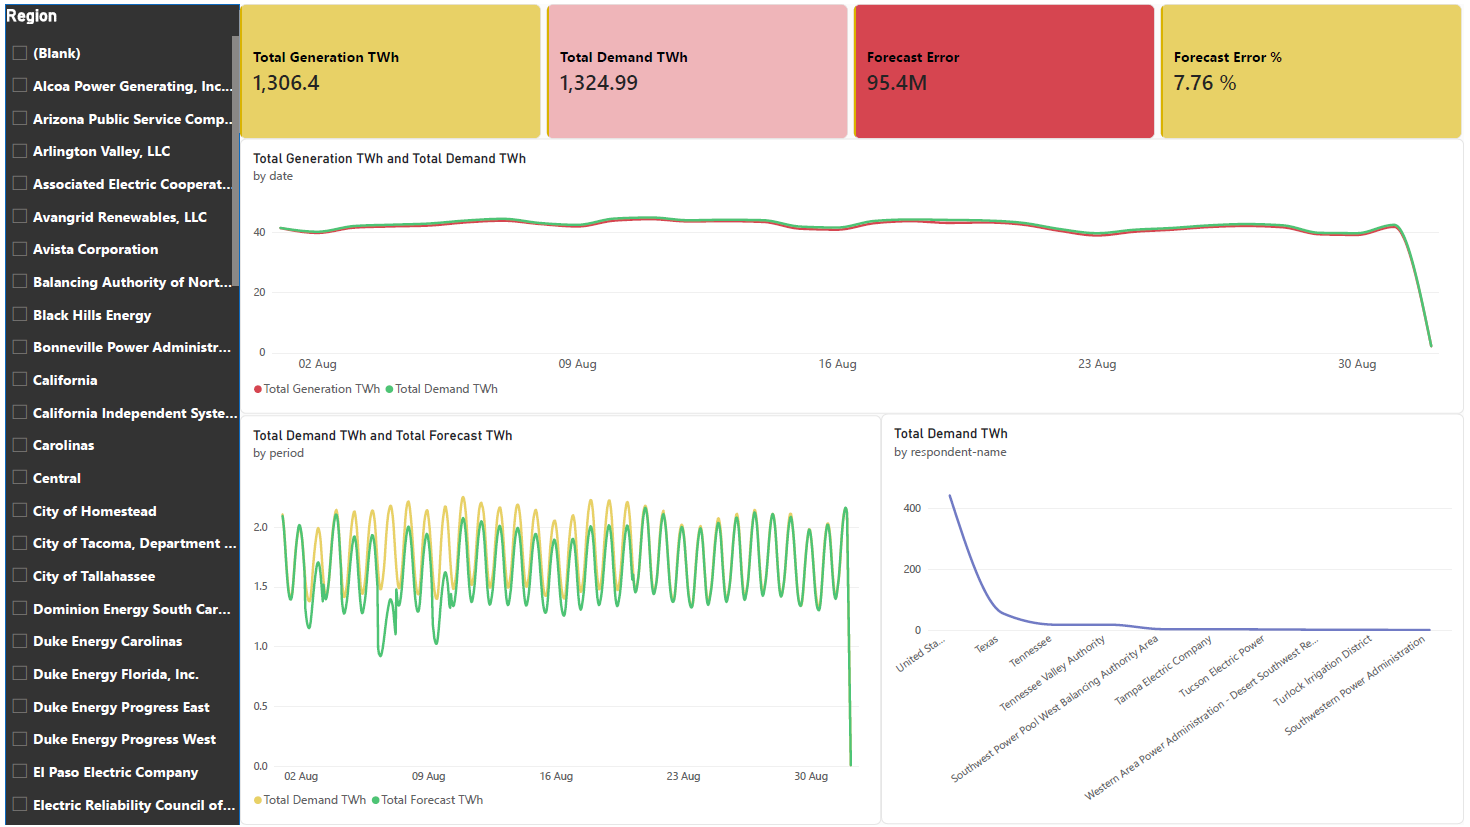

The dashboard page shown, as its layout file describes it:
{"tool":"powerbi","page":{"name":"Page 1","canvas":[1920,1080],"ordinal":0},"visuals":[{"type":"shape","box":[0,0,308.7,1080.6],"z":0},{"type":"lineChart","fields":{"Category":["gold_fact_hourly.period"],"Y":["gold_fact_hourly.Total Demand TWh","gold_fact_hourly.Total Forecast TWh"]},"box":[309.5,541.1,843.3,539.3],"z":1000},{"type":"slicer","title":"Region","fields":{"Values":["dim_region.respondent-name"]},"box":[0,0,308.9,1080],"z":2000},{"type":"cardVisual","fields":{"Data":["gold_fact_hourly.Total Generation TWh","gold_fact_hourly.Total Demand TWh","gold_fact_hourly.Forecast Error","gold_fact_hourly.Forecast Error %"]},"box":[309.5,0,1610.6,177.3],"z":3000},{"type":"lineChart","fields":{"Category":["dim_region.respondent-name"],"Y":["gold_fact_hourly.Total Demand TWh"]},"box":[1152.8,539.3,767.3,539.3],"z":4000},{"type":"lineChart","fields":{"Category":["dim_date.date"],"Y":["gold_fact_hourly.Total Generation TWh","gold_fact_hourly.Total Demand TWh"]},"box":[309.5,177.3,1610.6,361.9],"z":5000}]}

Visuals, with their boxes in screenshot pixels (x1, y1, x2, y2), scaled from the page's 1920x1080 canvas onto the 1470x827 screenshot:
shape: rect(0, 0, 236, 826)
lineChart - gold_fact_hourly.period x gold_fact_hourly.Total Demand TWh: rect(237, 414, 883, 826)
"Region" slicer: rect(0, 0, 237, 826)
cardVisual - gold_fact_hourly.Total Generation TWh x gold_fact_hourly.Total Demand TWh: rect(237, 0, 1469, 136)
lineChart - dim_region.respondent-name x gold_fact_hourly.Total Demand TWh: rect(883, 413, 1469, 826)
lineChart - dim_date.date x gold_fact_hourly.Total Generation TWh: rect(237, 136, 1469, 413)
